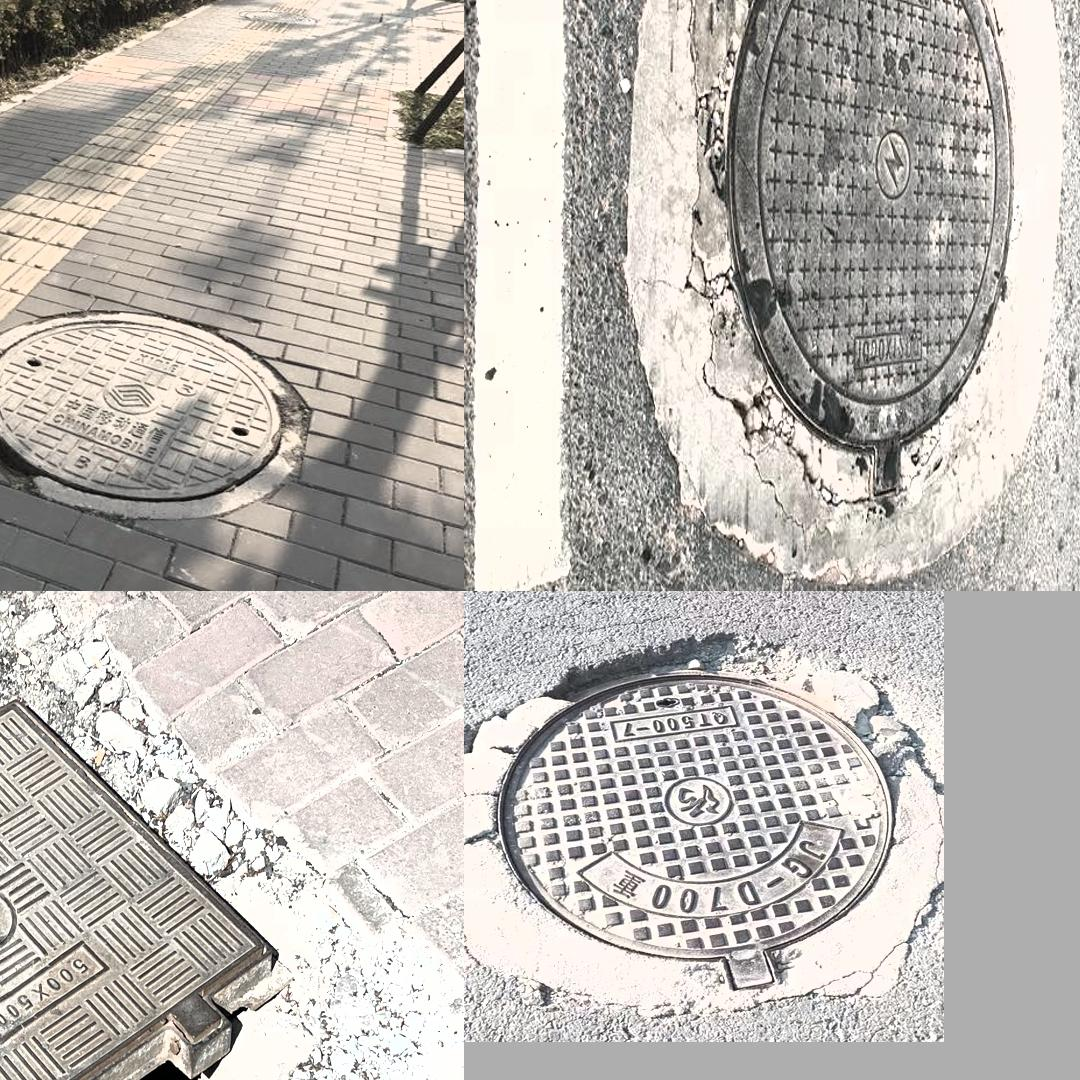circle: (628, 0, 1059, 573), (478, 644, 927, 1007), (0, 692, 408, 1080), (0, 311, 314, 519)
